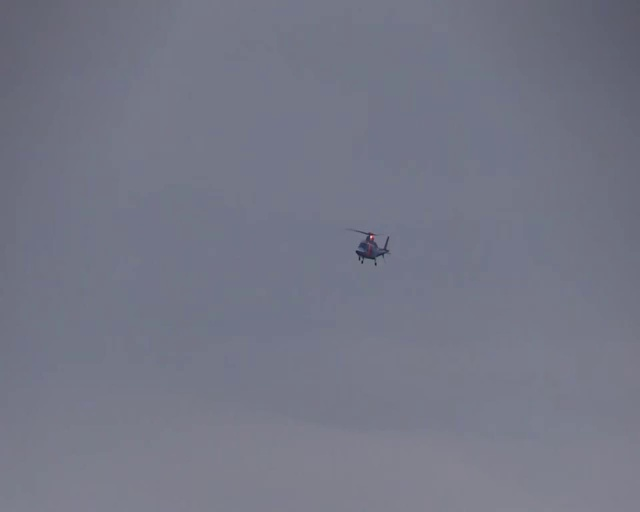HELICOPTER: (345, 227, 392, 266)
